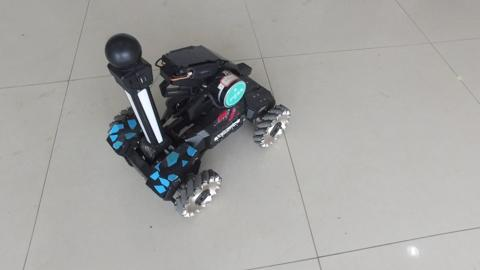chariot: (84, 37, 280, 216)
